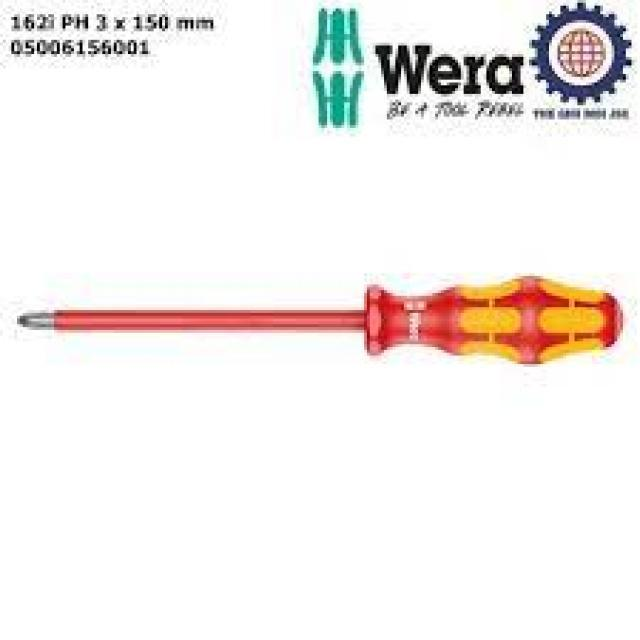screwdriver: (15, 272, 634, 372)
